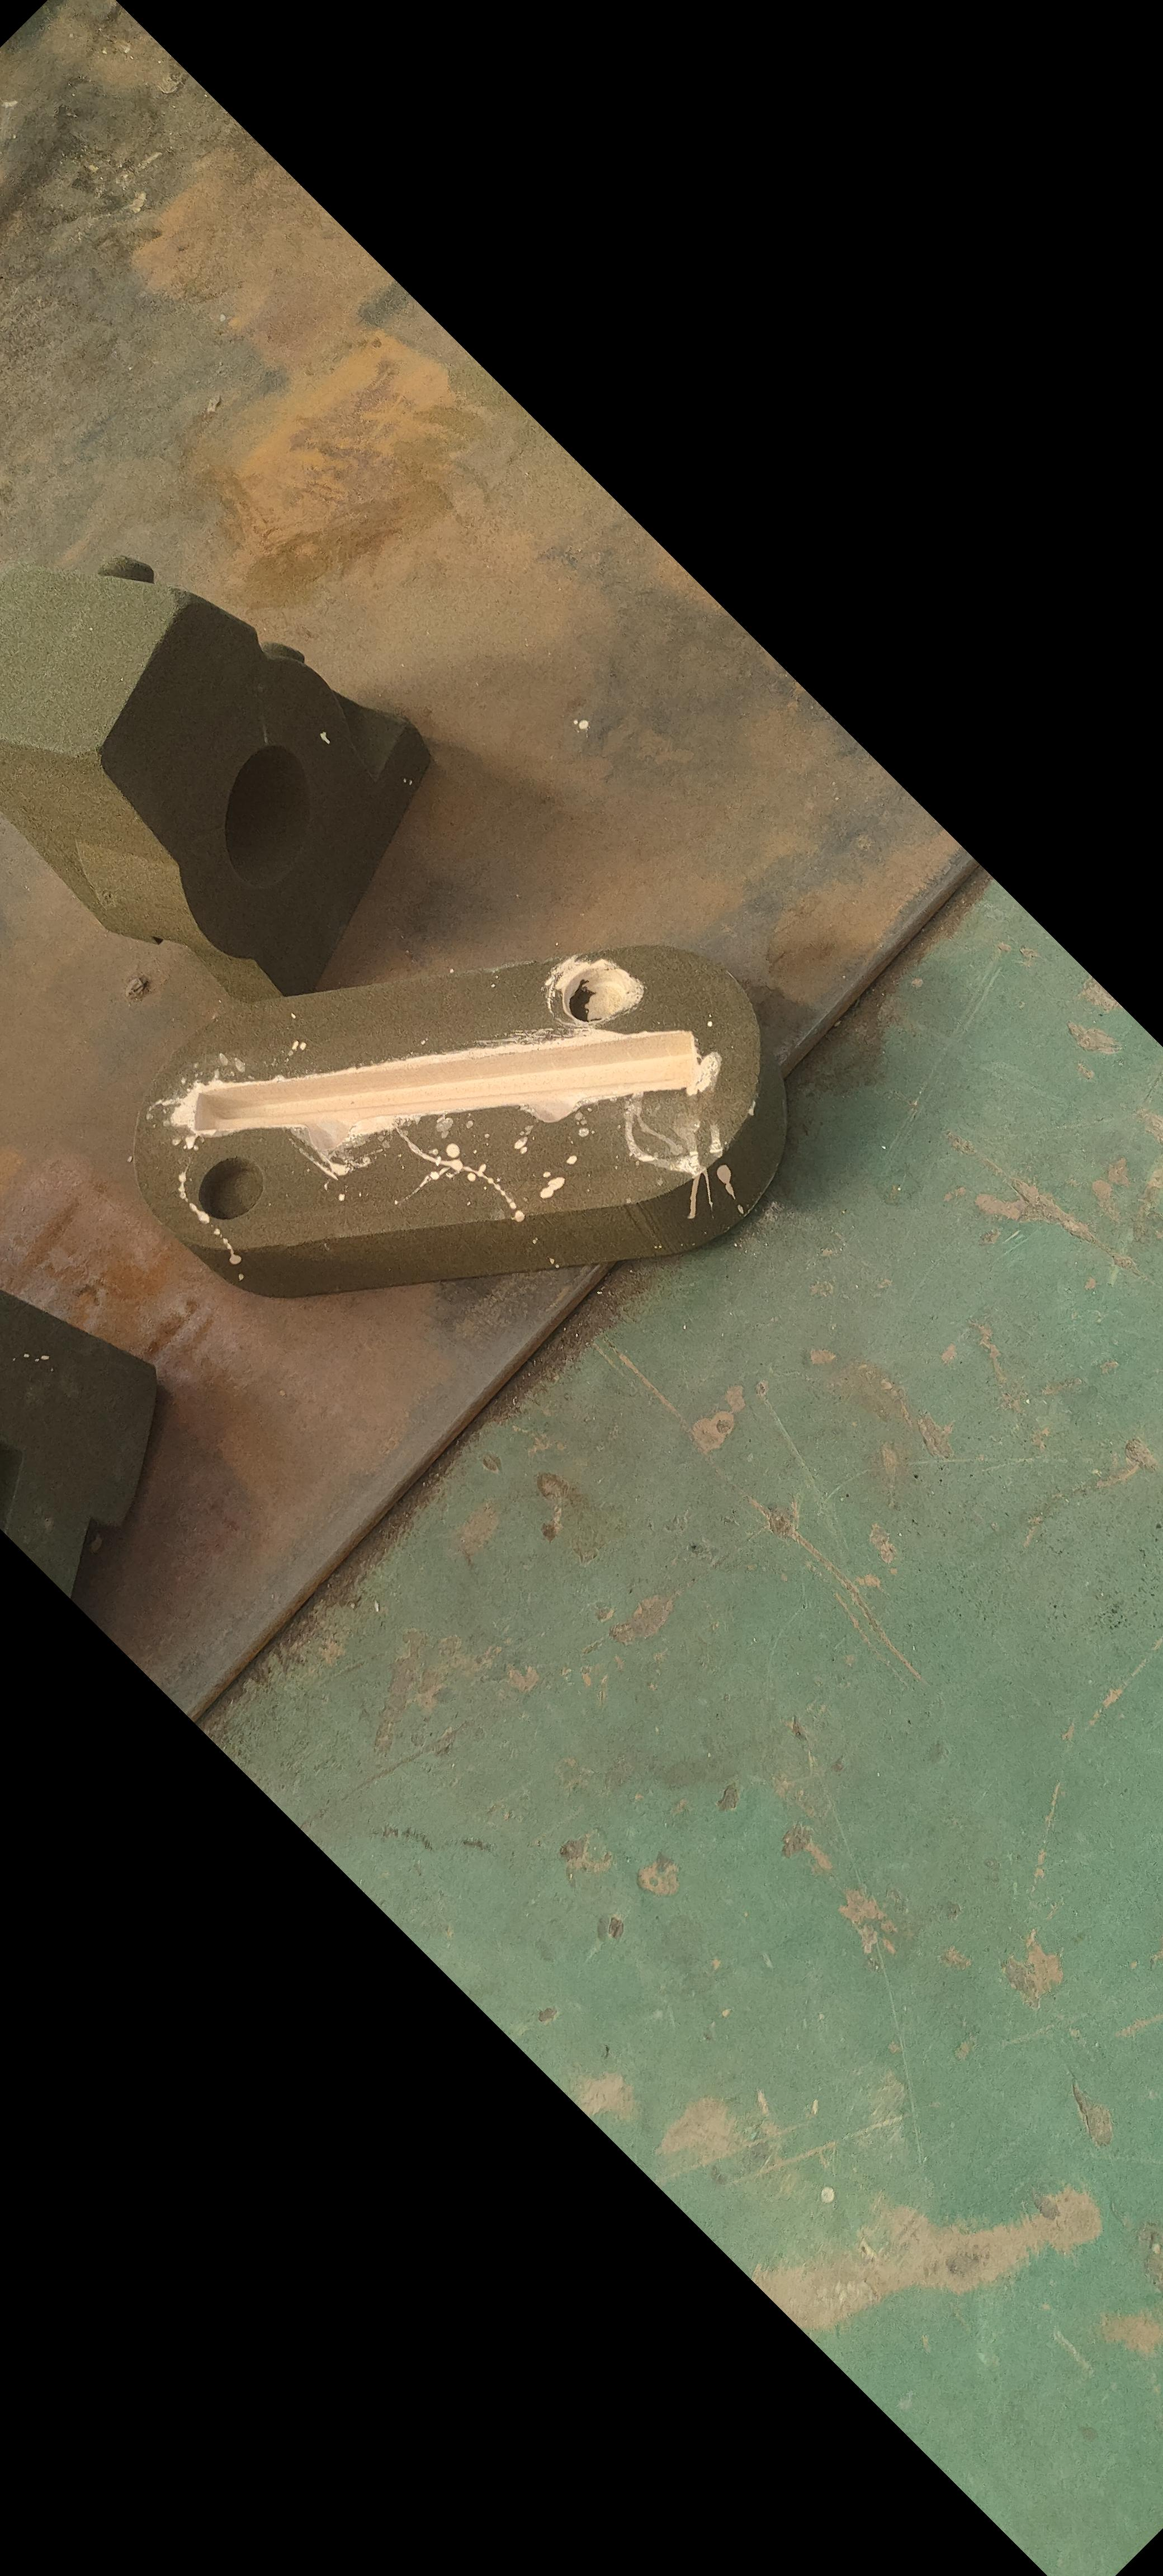pouring hole: (223, 747, 315, 885)
